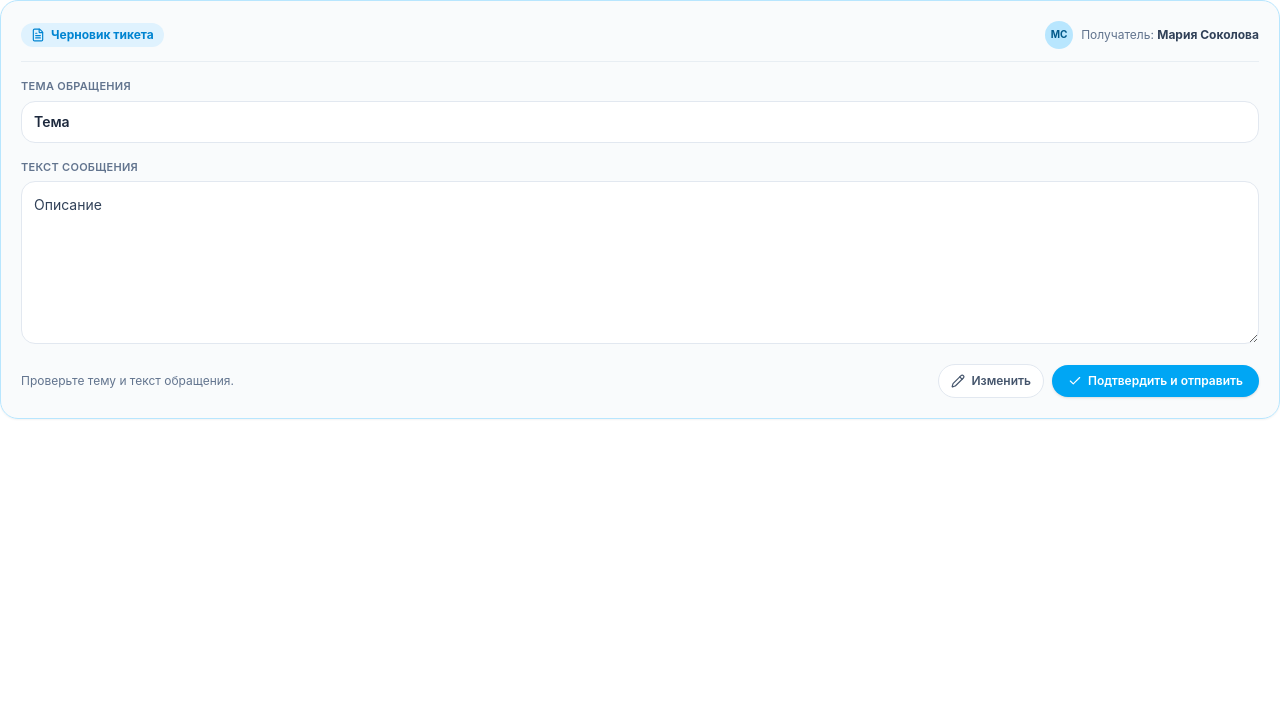
Test: explicit action confirmation › shows server text errors and leaves the form retryable
Click the button "Подтвердить и отправить": [1156, 381] box [1052, 365, 1259, 397]
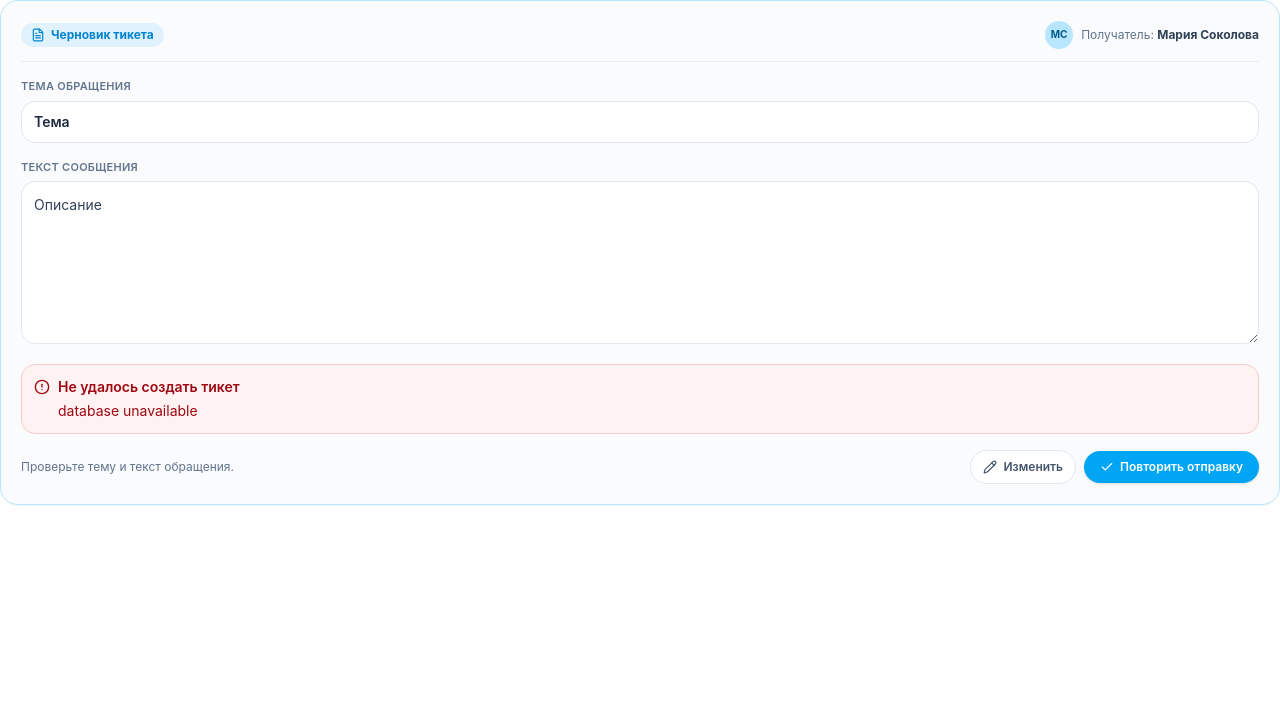
expect the button "Повторить отправку" is enabled: met, box [1084, 451, 1259, 483]
expect the message shows "database unavailable": met, box [58, 402, 198, 419]
